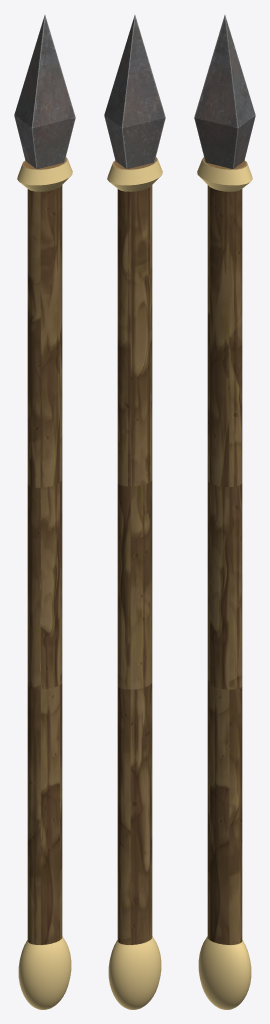
File: LP_Spear.fbx
The picture shows the model from 3 angles, left to right: view 1: azimuth 30°, elevation 25°; view 2: azimuth 210°, elevation 25°; view 3: azimuth 330°, elevation 25°; orthographic projection.
Parts seen in each view (by area): view 1: pSphere2; view 2: pSphere2; view 3: pSphere2.
Boxes of the visible parts, box(x1,y1,x2,y2) form: pSphere2: box(14, 15, 75, 1009); pSphere2: box(104, 15, 165, 1009); pSphere2: box(194, 15, 255, 1009).
Bounding box in the file's own units: 13.89 × 255 × 9.76.
1 material, 1 textured.
